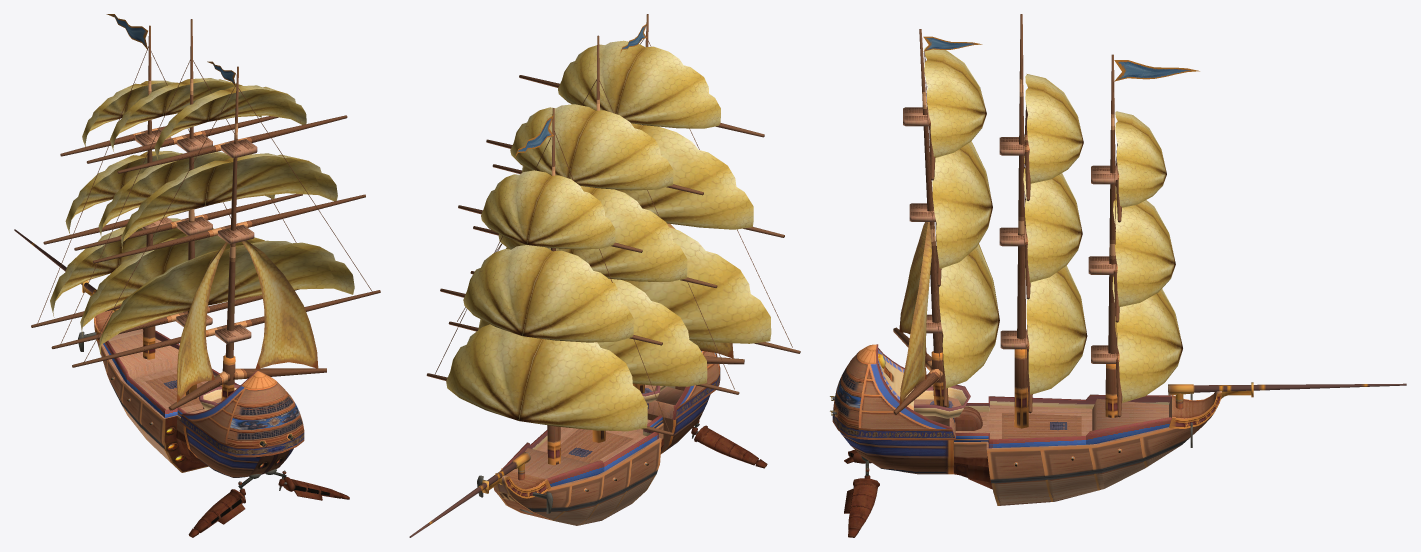
Rendered from rls_legacy_treasure_planet.glb.
3 views of the same model, side by side, from view 1: azimuth 30°, elevation 25°; view 2: azimuth 150°, elevation 25°; view 3: azimuth 270°, elevation 25° (orthographic). The views are drawn at different scales.
Parts seen in each view (by area): view 1: Sails, NavyLegacy.007, Back Sails, NavyLegacy.031, NavyLegacy.004, NavyLegacy.015, NavyLegacy.005, NavyLegacy.001, NavyLegacy.010, NavyLegacy.002, NavyLegacy.012, Rudder (+10 smaller); view 2: Sails, NavyLegacy.001, NavyLegacy.007, NavyLegacy.015, NavyLegacy.033, NavyLegacy.051, NavyLegacy.046, NavyLegacy.002, Rudder, NavyLegacy.040, NavyLegacy.003, NavyLegacy.010 (+7 smaller); view 3: Sails, NavyLegacy.001, NavyLegacy.005, NavyLegacy.004, Back Sails, NavyLegacy.015, NavyLegacy.033, NavyLegacy.010, NavyLegacy.007, NavyLegacy.012, NavyLegacy.003, NavyLegacy.046 (+12 smaller).
Boxes of the visible parts, box(x1,y1,x2,y2) form: Sails: box(50, 78, 354, 354); NavyLegacy.007: box(31, 115, 380, 410); Back Sails: box(177, 240, 318, 402); NavyLegacy.031: box(227, 381, 304, 446); NavyLegacy.004: box(134, 129, 257, 343); NavyLegacy.015: box(101, 333, 221, 418); NavyLegacy.005: box(146, 19, 238, 358); NavyLegacy.001: box(96, 340, 164, 448); NavyLegacy.010: box(183, 426, 293, 477); NavyLegacy.002: box(36, 46, 373, 364); NavyLegacy.012: box(182, 384, 291, 443); Rudder: box(193, 477, 341, 532); Sails: box(446, 40, 771, 431); NavyLegacy.001: box(494, 438, 661, 511); NavyLegacy.007: box(426, 75, 800, 435); NavyLegacy.015: box(512, 387, 683, 487); NavyLegacy.033: box(534, 474, 656, 525); NavyLegacy.051: box(560, 429, 633, 463); NavyLegacy.046: box(502, 429, 658, 486); NavyLegacy.002: box(435, 38, 792, 453); Rudder: box(694, 425, 758, 465); NavyLegacy.040: box(409, 452, 530, 537); NavyLegacy.003: box(547, 383, 644, 465); NavyLegacy.010: box(660, 394, 710, 454); Sails: box(924, 46, 1182, 402); NavyLegacy.001: box(986, 407, 1217, 483); NavyLegacy.005: box(919, 14, 1117, 353); NavyLegacy.004: box(903, 107, 1117, 363); Back Sails: box(899, 222, 931, 406); NavyLegacy.015: box(916, 384, 1168, 449); NavyLegacy.033: box(991, 445, 1180, 505); NavyLegacy.010: box(840, 432, 953, 474); NavyLegacy.007: box(893, 105, 1121, 417); NavyLegacy.012: box(858, 363, 950, 428); NavyLegacy.003: box(931, 349, 1117, 428); NavyLegacy.046: box(988, 394, 1171, 448).
Bounding box in the file's own units: 3.27 × 4.54 × 4.88.
Materials: 53 (53 with a texture image).
